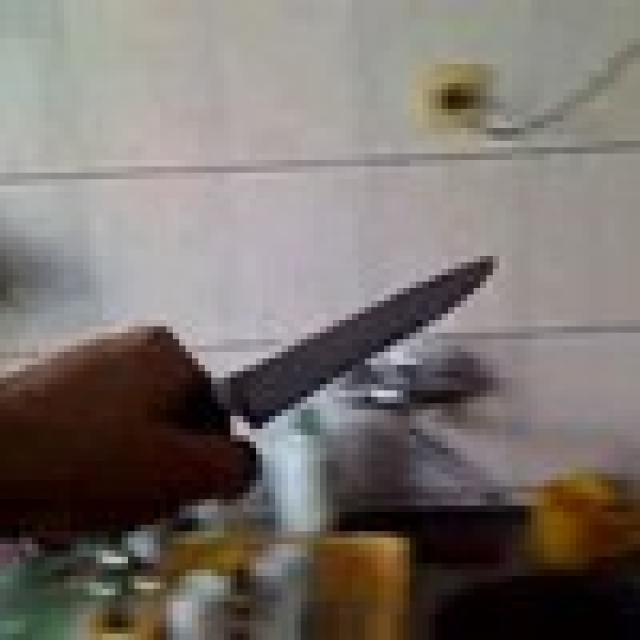Knife: (186, 243, 499, 442)
